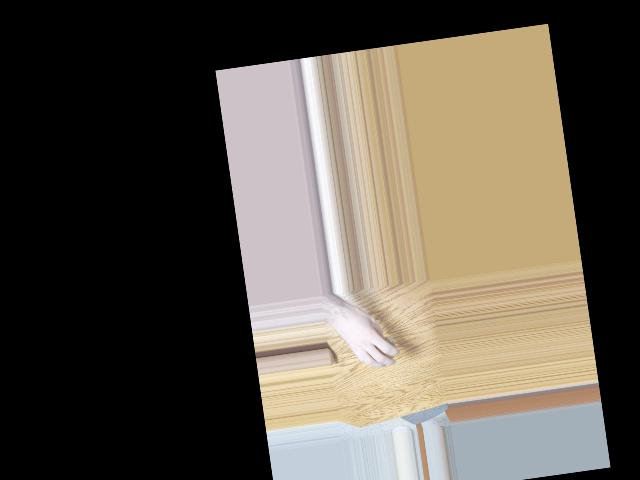onion: (370, 334, 396, 362)
